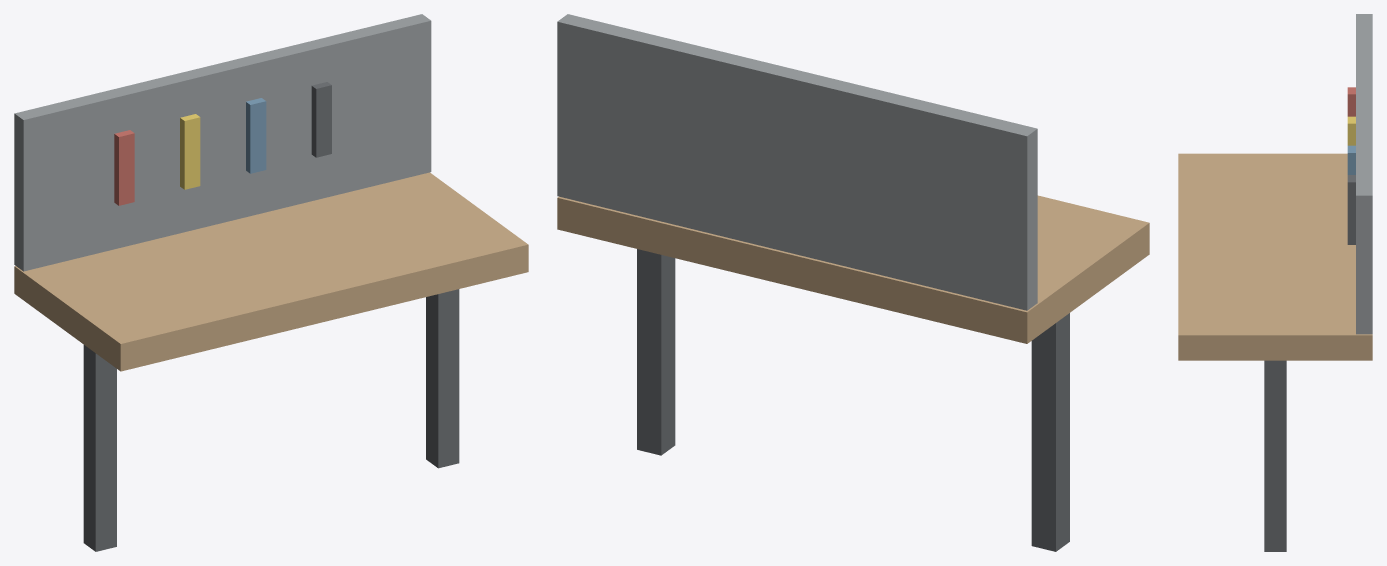
Rendered from workbench_01.glb.
3 renders of one model, left to right at view 1: azimuth 30°, elevation 25°; view 2: azimuth 150°, elevation 25°; view 3: azimuth 270°, elevation 25°, orthographic. The views are drawn at different scales.
Visible parts, largest first — view 1: backsplash, top, leg-0.6509999999999999, leg0.6509999999999999, tool1, tool0, tool3, tool2; view 2: backsplash, top, leg-0.6509999999999999, leg0.6509999999999999; view 3: top, backsplash, leg0.6509999999999999, tool3, tool0, tool1, tool2.
Part boxes in pixels (x1,y1,x2,y2): backsplash: [14, 14, 431, 271]; top: [14, 172, 528, 371]; leg-0.6509999999999999: [83, 345, 116, 551]; leg0.6509999999999999: [426, 289, 459, 468]; tool1: [180, 114, 200, 189]; tool0: [114, 130, 134, 205]; tool3: [311, 82, 331, 157]; tool2: [246, 98, 266, 173]; backsplash: [557, 14, 1037, 310]; top: [557, 195, 1149, 343]; leg-0.6509999999999999: [1031, 313, 1069, 551]; leg0.6509999999999999: [637, 249, 675, 455]; top: [1178, 153, 1372, 360]; backsplash: [1356, 14, 1372, 334]; leg0.6509999999999999: [1264, 360, 1286, 551]; tool3: [1347, 175, 1355, 244]; tool0: [1347, 87, 1355, 116]; tool1: [1347, 116, 1355, 145]; tool2: [1347, 145, 1355, 174].
Size of the model in its own units: 1.55 by 1.46 by 0.7.
